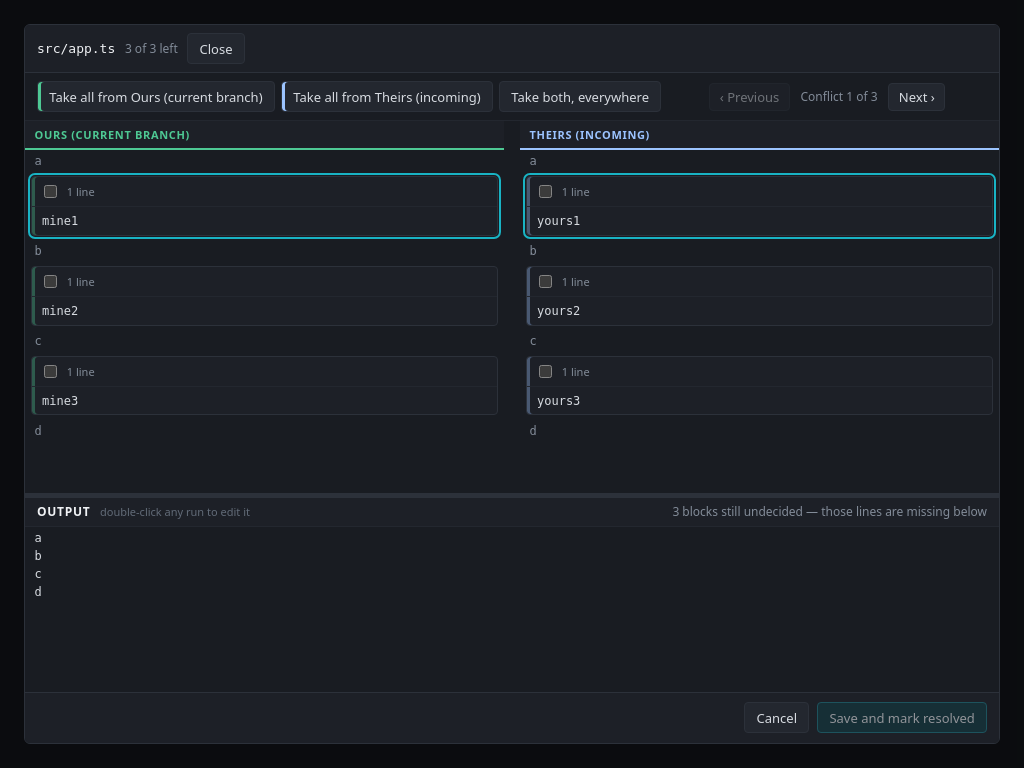
walking the conflicts › walks forward through them, marking both halves of the one it is on
Expected: the text "Conflict 1 of 3" is shown, top-left (798, 88), bottom-right (880, 105)
Click the button "Next ›". click: (917, 97)
box: top-left (888, 83), bottom-right (945, 111)
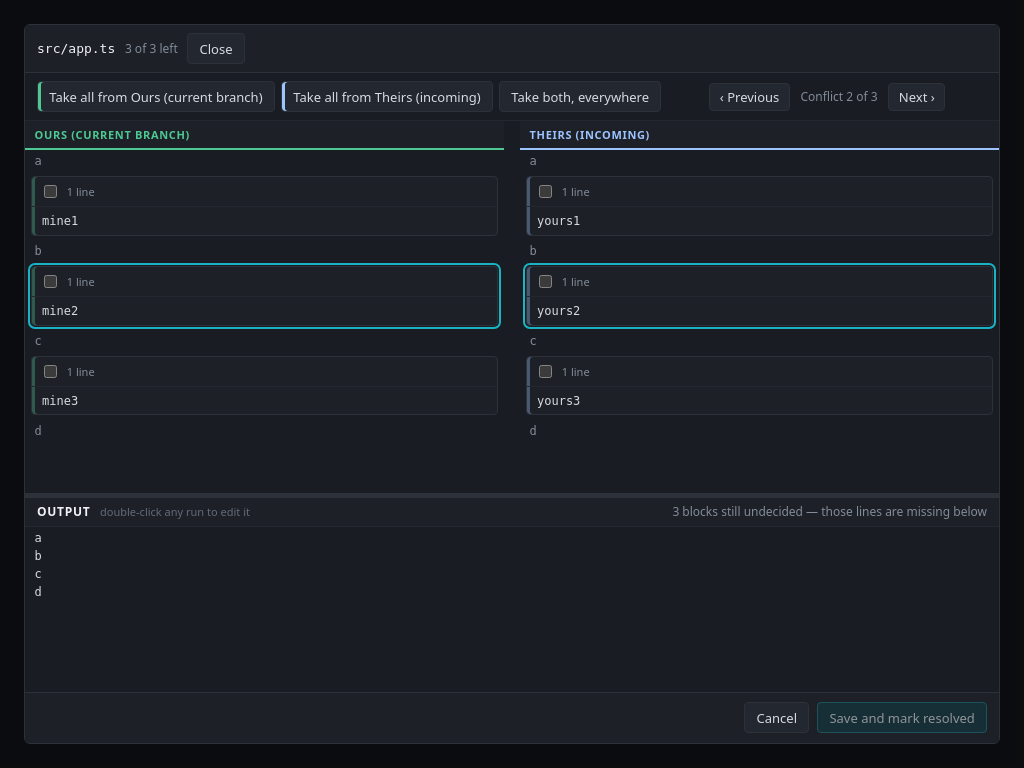
Expected: the text "Conflict 2 of 3" is shown, top-left (798, 88), bottom-right (880, 105)
Click the button "Next ›". click: (917, 97)
box: top-left (888, 83), bottom-right (945, 111)
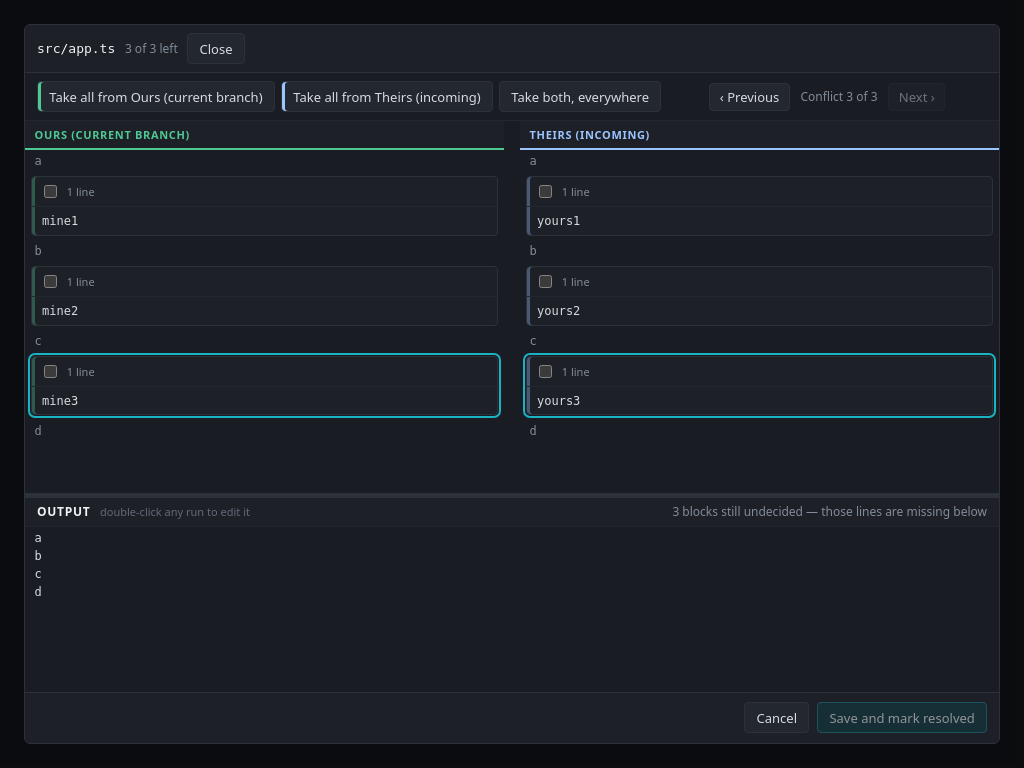
Expected: the text "Conflict 3 of 3" is shown, top-left (798, 88), bottom-right (880, 105)
